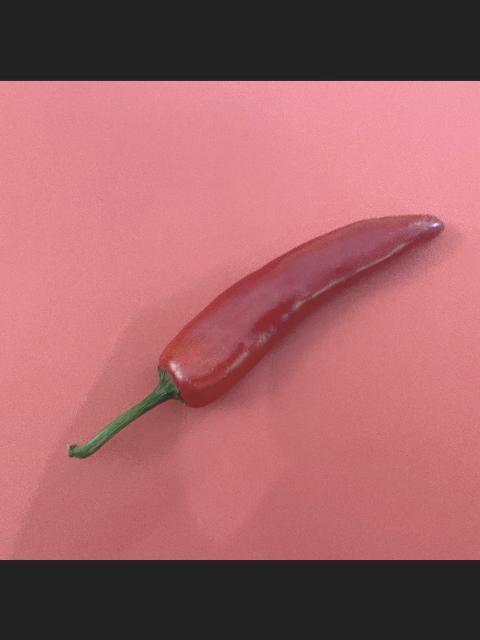chilli: (63, 210, 447, 460)
